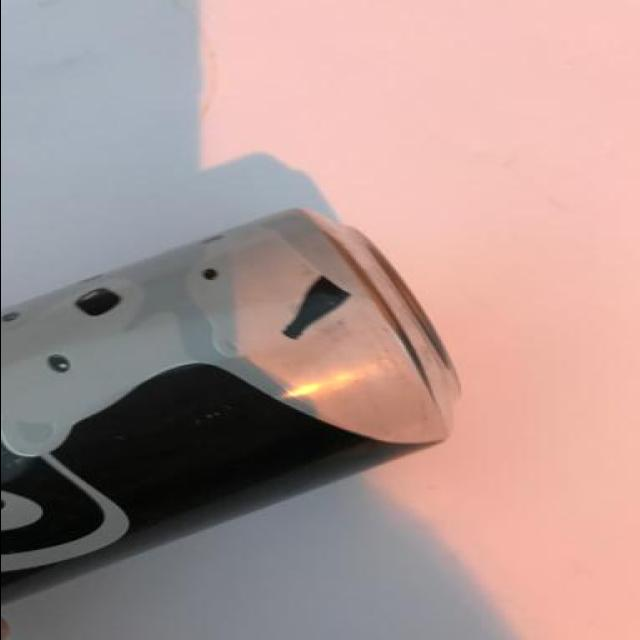litter: (0, 159, 520, 639)
